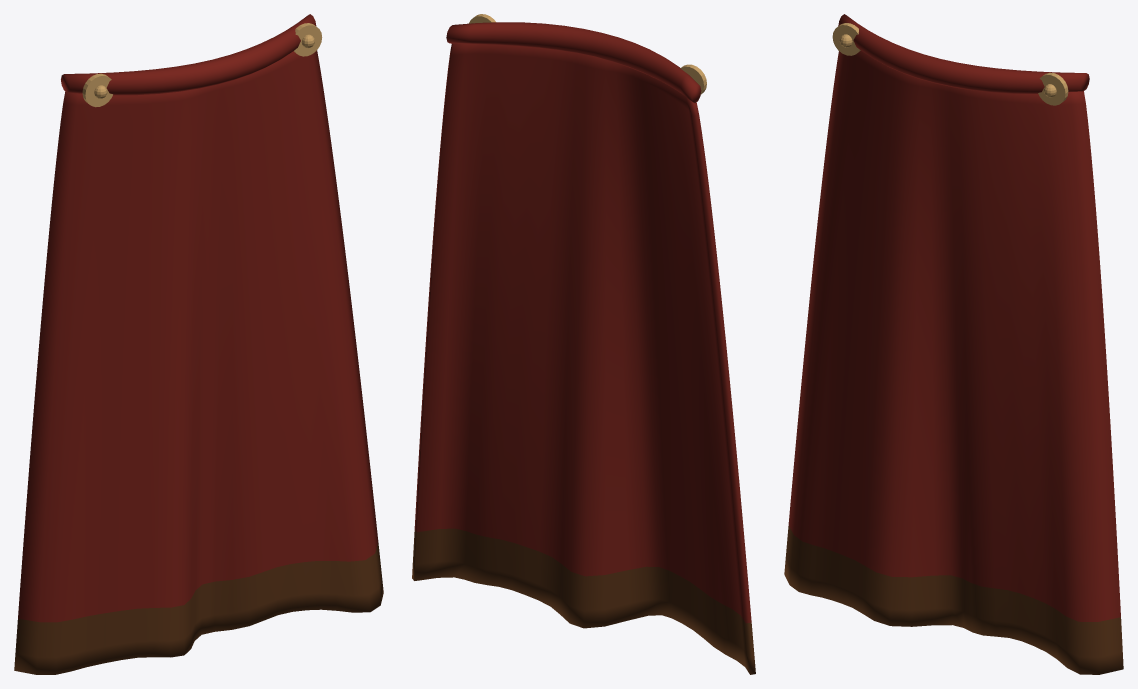
The model's file is cloak_long.glb.
3 renders of one model, left to right at view 1: azimuth 30°, elevation 25°; view 2: azimuth 150°, elevation 25°; view 3: azimuth 330°, elevation 25°, orthographic.
Parts seen in each view (by area): view 1: cloak, collar, Cylinder, Cylinder.001; view 2: cloak, collar; view 3: cloak, collar, Cylinder.001, Cylinder.
Boxes of the visible parts, x1,y1,x2,y2 form: cloak: [14, 50, 383, 674]; collar: [61, 14, 316, 95]; Cylinder: [82, 73, 112, 107]; Cylinder.001: [294, 23, 322, 56]; cloak: [412, 43, 755, 674]; collar: [446, 22, 701, 102]; cloak: [784, 51, 1123, 674]; collar: [838, 14, 1089, 93]; Cylinder.001: [1038, 72, 1068, 105]; Cylinder: [832, 23, 860, 55].
Size of the model in its own units: 0.8291 by 1.3 by 0.1674.
